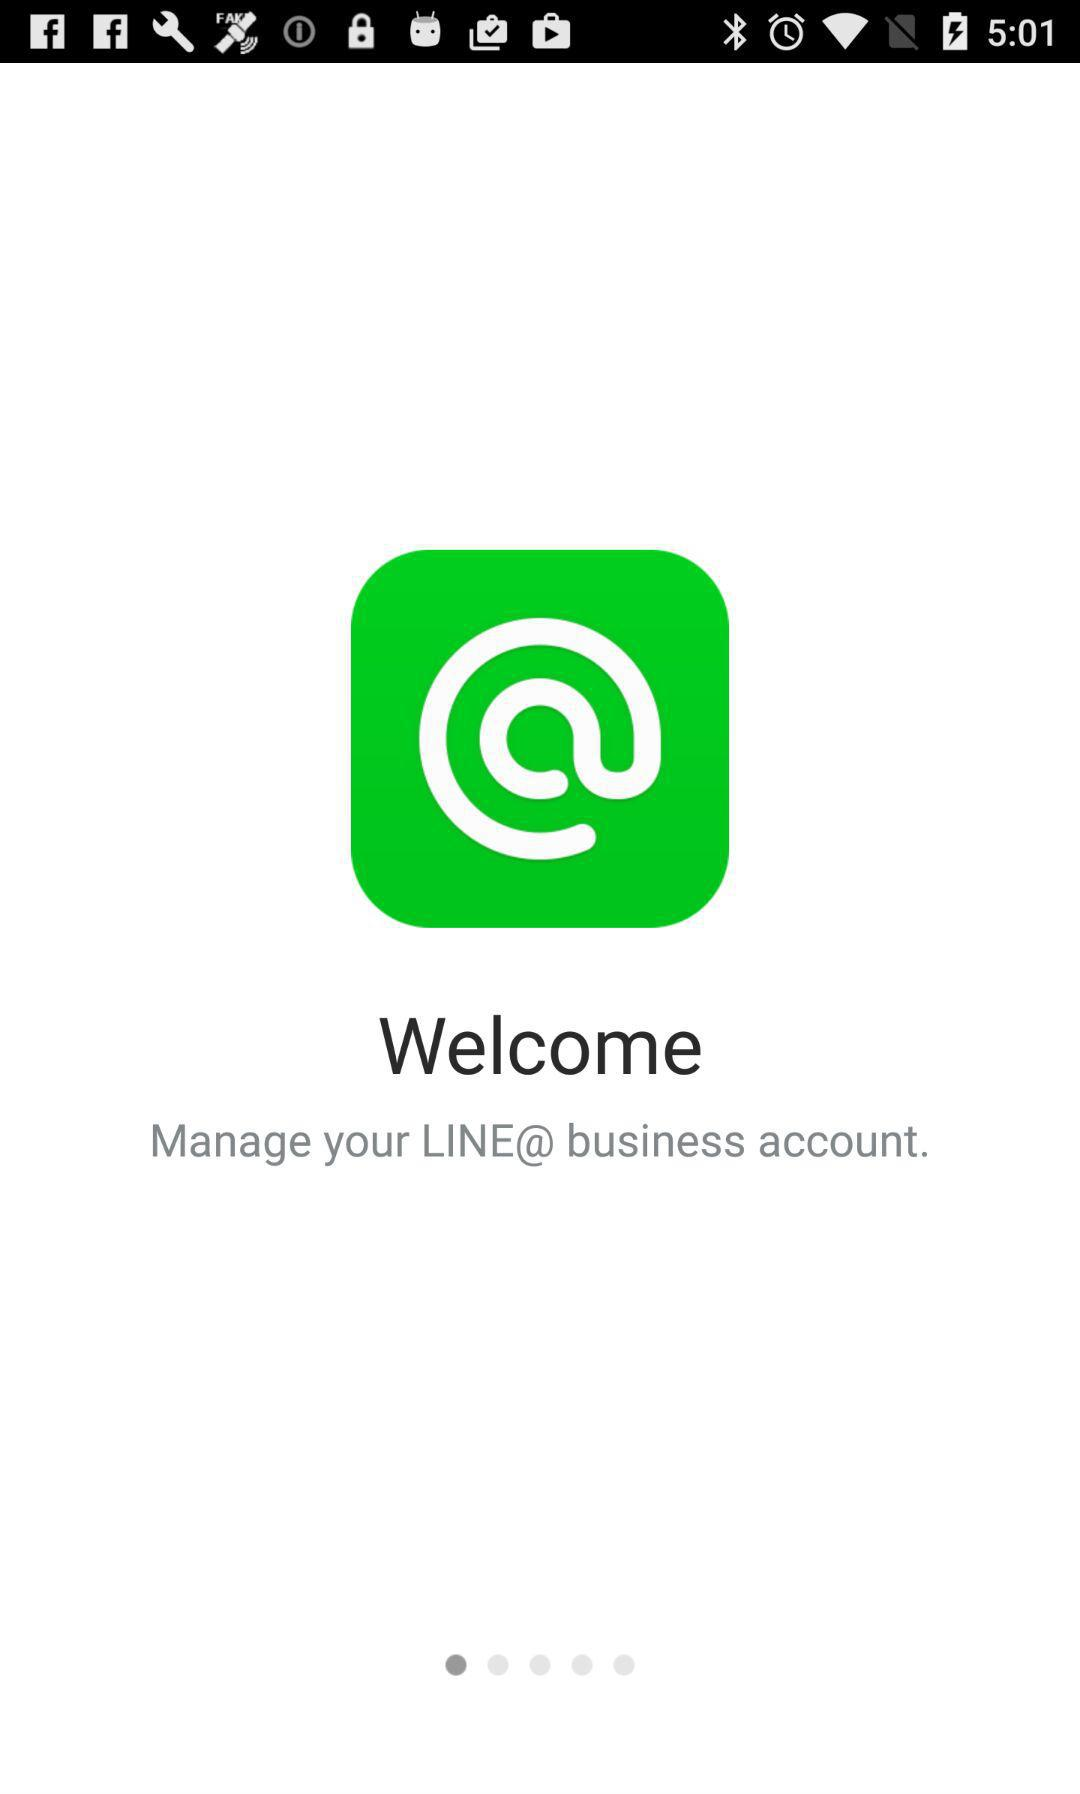Image: (350, 548, 732, 929)
PageIndicator: (445, 1653, 635, 1677)
Text: (152, 1123, 929, 1167), (379, 1014, 702, 1076)
UpperTaskBar: (1, 1, 1080, 64)
